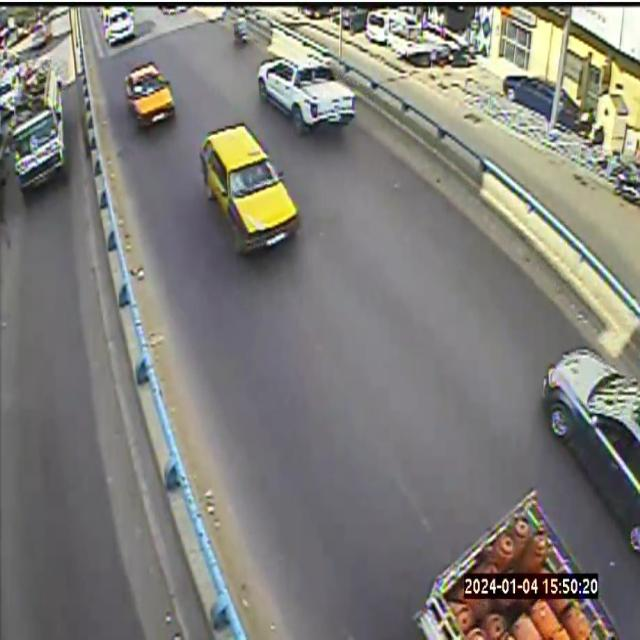car: (417, 491, 618, 639), (543, 349, 639, 553), (199, 123, 298, 253), (258, 55, 355, 132), (125, 60, 174, 126), (103, 6, 135, 45)
